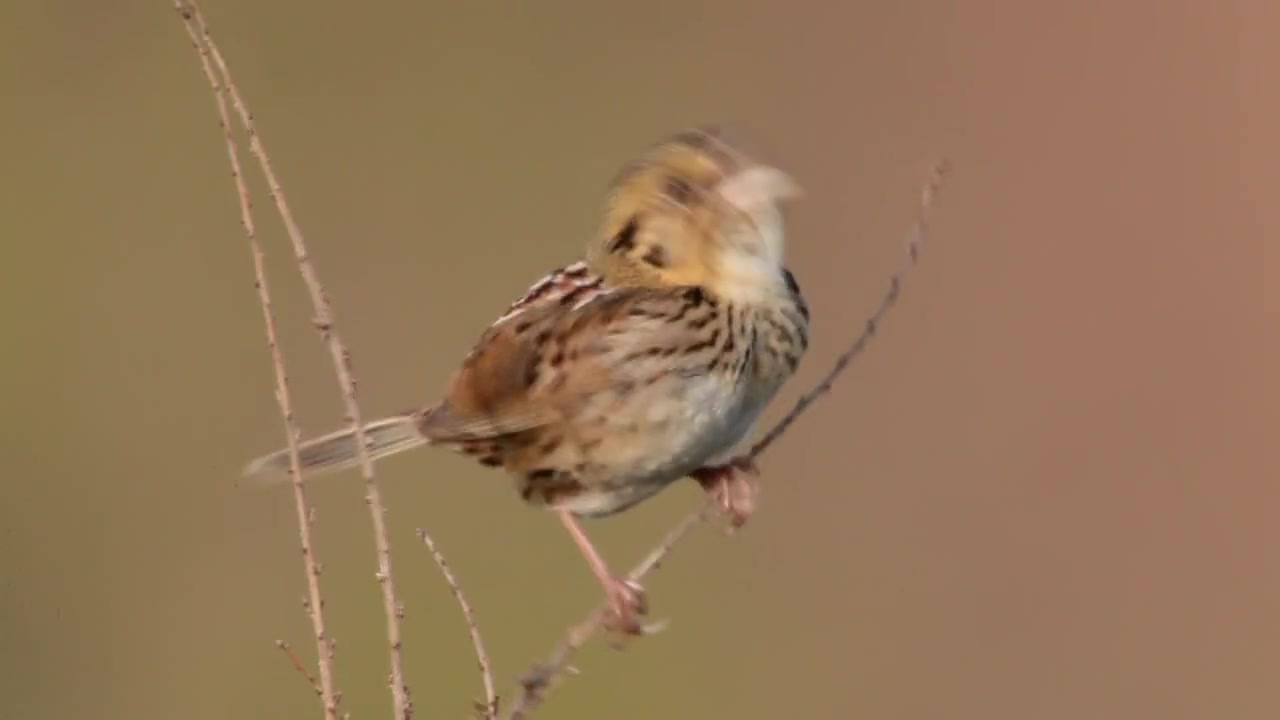bird: (244, 131, 814, 652)
